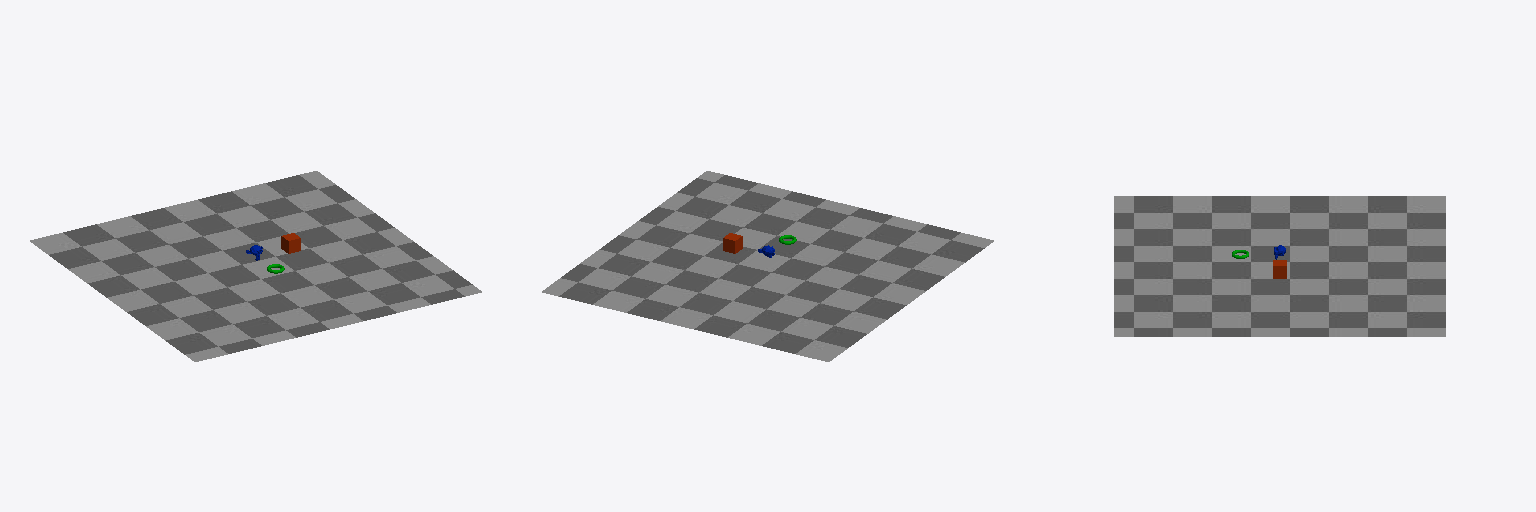
3 renders of one model, left to right at view 1: azimuth 30°, elevation 25°; view 2: azimuth 150°, elevation 25°; view 3: azimuth 270°, elevation 25°, orthographic.
Parts seen in each view (by area): view 1: Plane; view 2: Plane; view 3: Plane.
Boxes of the visible parts, x1=… form: Plane: x1=30, y1=171, x2=481, y2=361; Plane: x1=542, y1=171, x2=993, y2=361; Plane: x1=1114, y1=196, x2=1445, y2=336.
Bounding box in the file's own units: 46.4 × 3.23 × 46.4.
Materials: 4 (1 with a texture image).